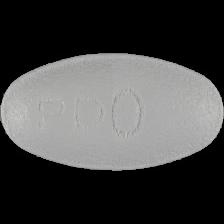49999-392: (0, 0, 224, 224)
